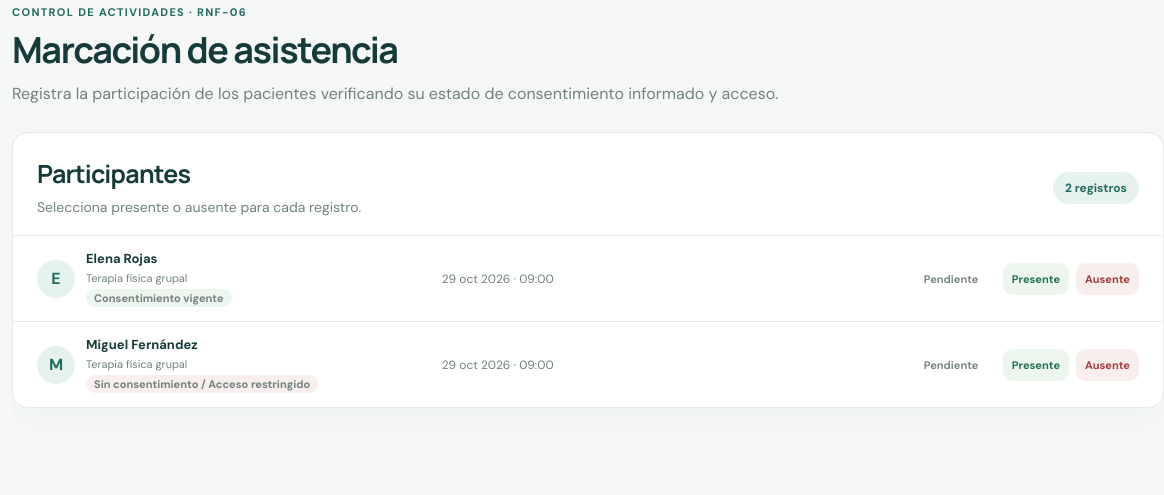
Test: Asistencia (/asistencia) — RNF-06 › no permite marcar Presente a un paciente sin consentimiento
Click the button with class "button-present" in the row of "Sin consentimiento / Acceso restringido" at {"x": 1036, "y": 365}, box left=1003, top=349, right=1069, bottom=381
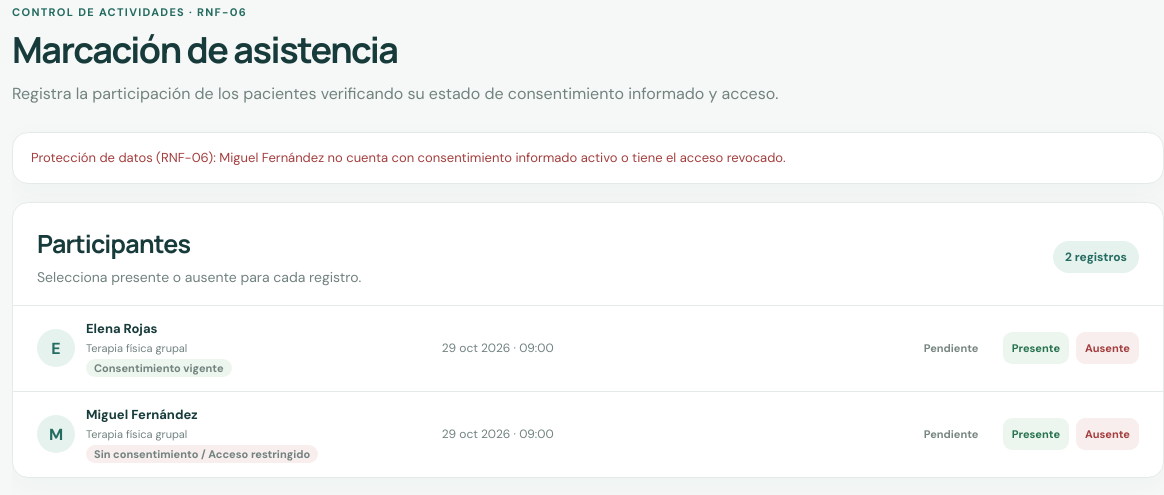
Expected: the 1st text "Pendiente" is shown, left=924, top=341, right=978, bottom=355
Expected: the message shows "RNF-06", left=31, top=149, right=786, bottom=166
